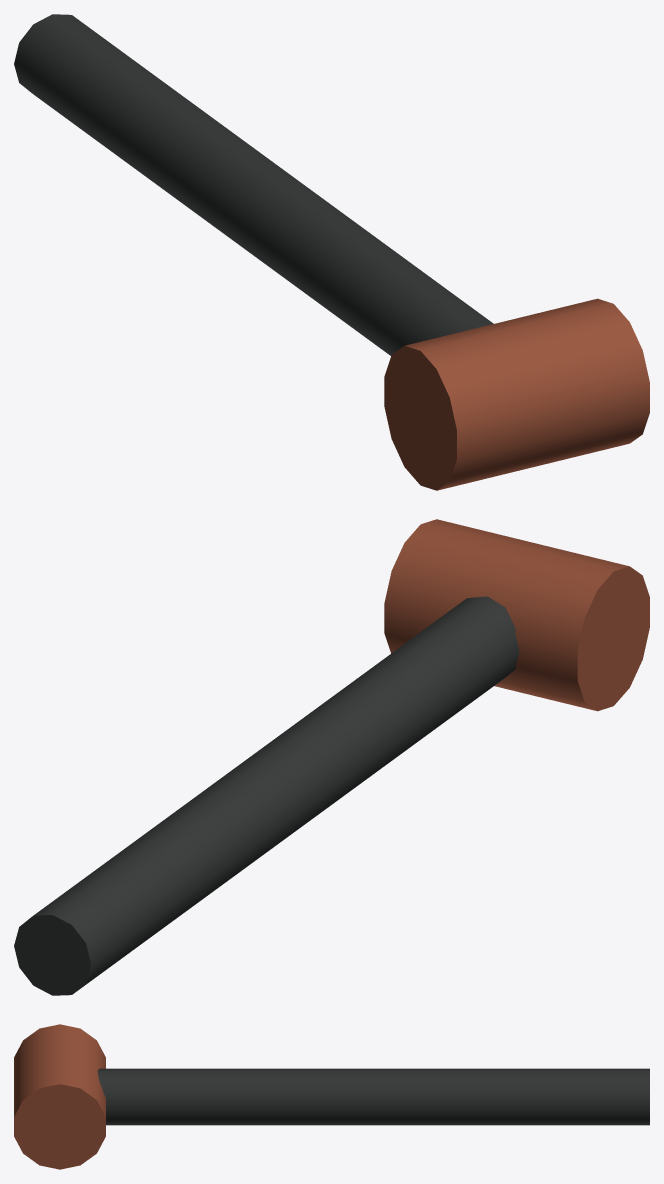
File: tipping_skip_release_lever.glb
The picture shows the model from 3 angles, top to bottom: view 1: azimuth 30°, elevation 25°; view 2: azimuth 150°, elevation 25°; view 3: azimuth 270°, elevation 25°; orthographic projection. The views are drawn at different scales.
Visible parts, largest first — view 1: tipping_skip_release_lever.001; view 2: tipping_skip_release_lever.001; view 3: tipping_skip_release_lever.001.
Boxes of the visible parts, box(x1,y1,x2,y2) form: tipping_skip_release_lever.001: box(14, 14, 649, 490); tipping_skip_release_lever.001: box(14, 519, 649, 995); tipping_skip_release_lever.001: box(14, 1024, 649, 1169).
Bounding box in the file's own units: 0.06 × 0.04 × 0.2695.
